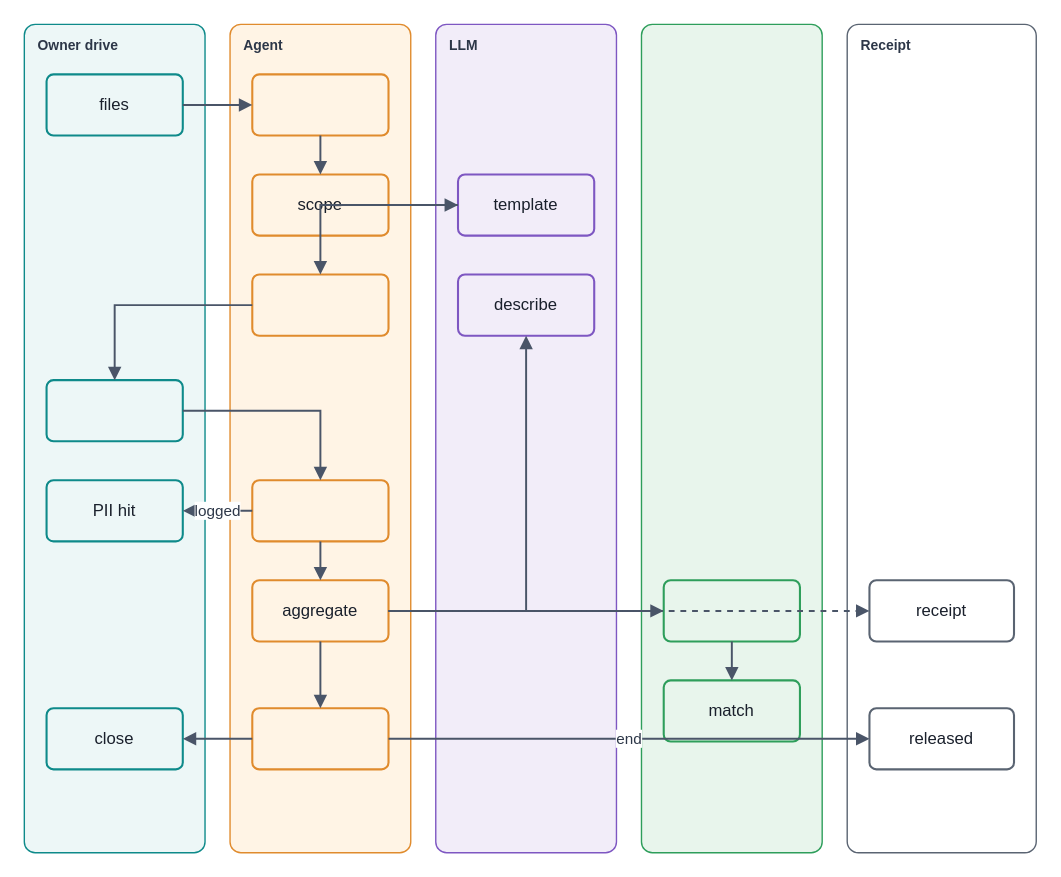
This 1061x877 diagram has some shape labels left out. Here are the shapes that lost their labels. From the top down, the box of each, then its label:
(251, 73, 389, 136): bind
(251, 273, 389, 336): parse
(45, 378, 183, 442): read chunk
(640, 23, 822, 853): Market
(251, 479, 389, 542): exclude
(662, 579, 800, 642): listing
(251, 707, 389, 770): unbind
